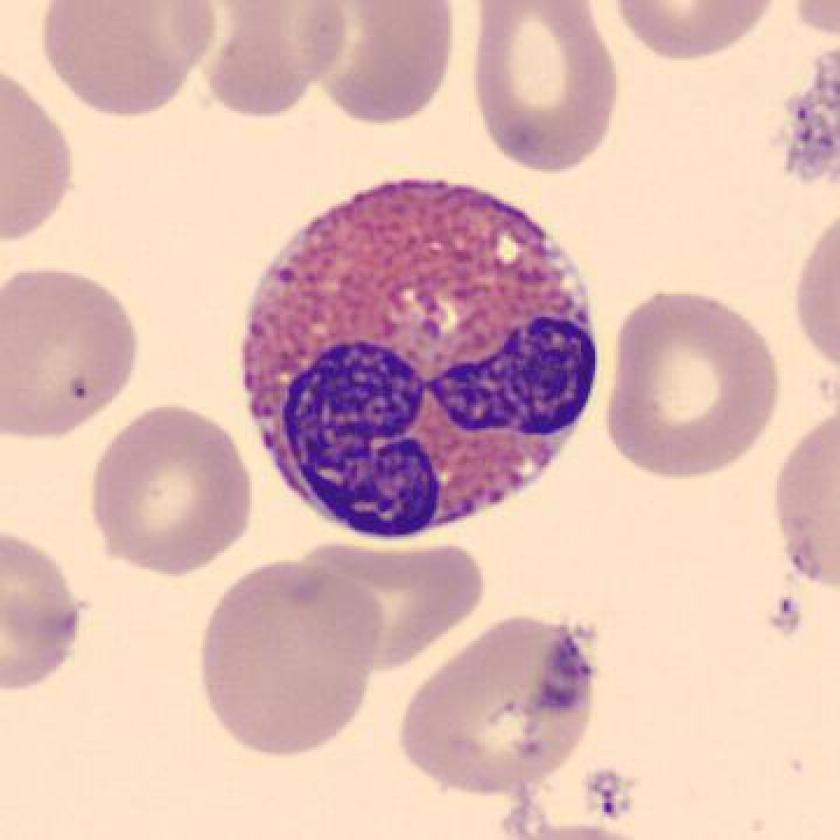eosinophil: (223, 168, 608, 547)
